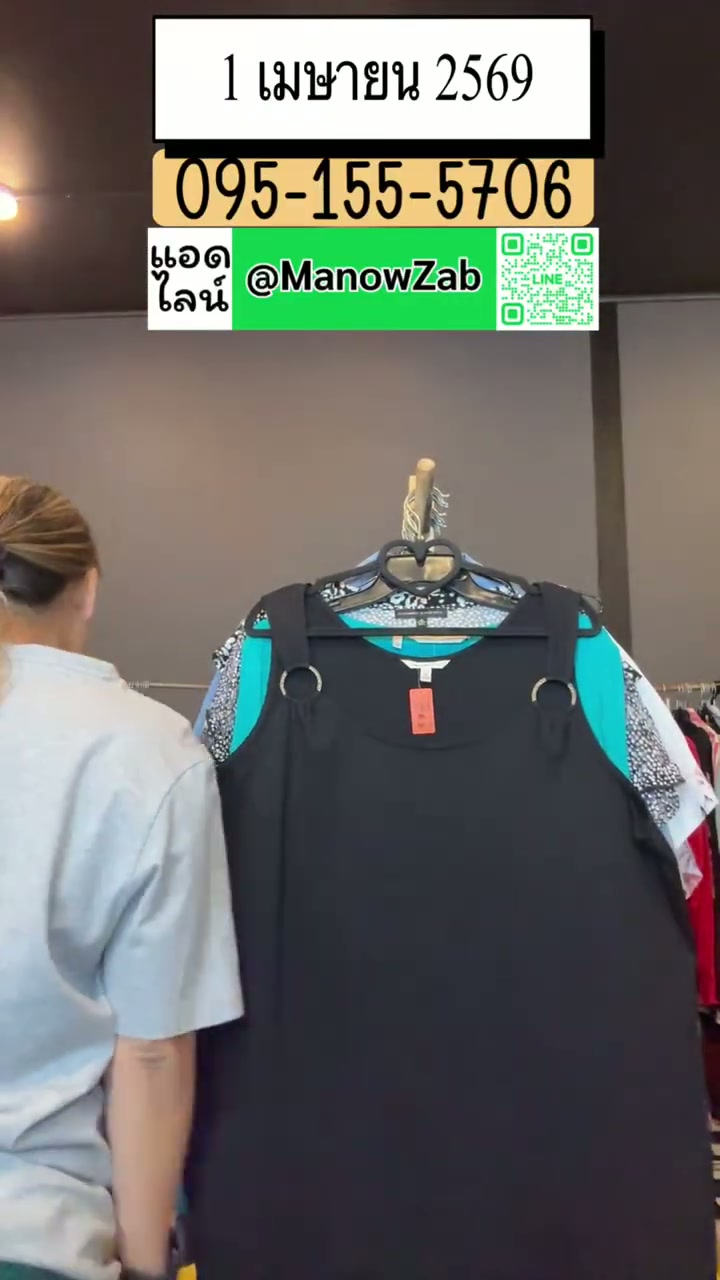display_shirt: (185, 582, 713, 1279)
